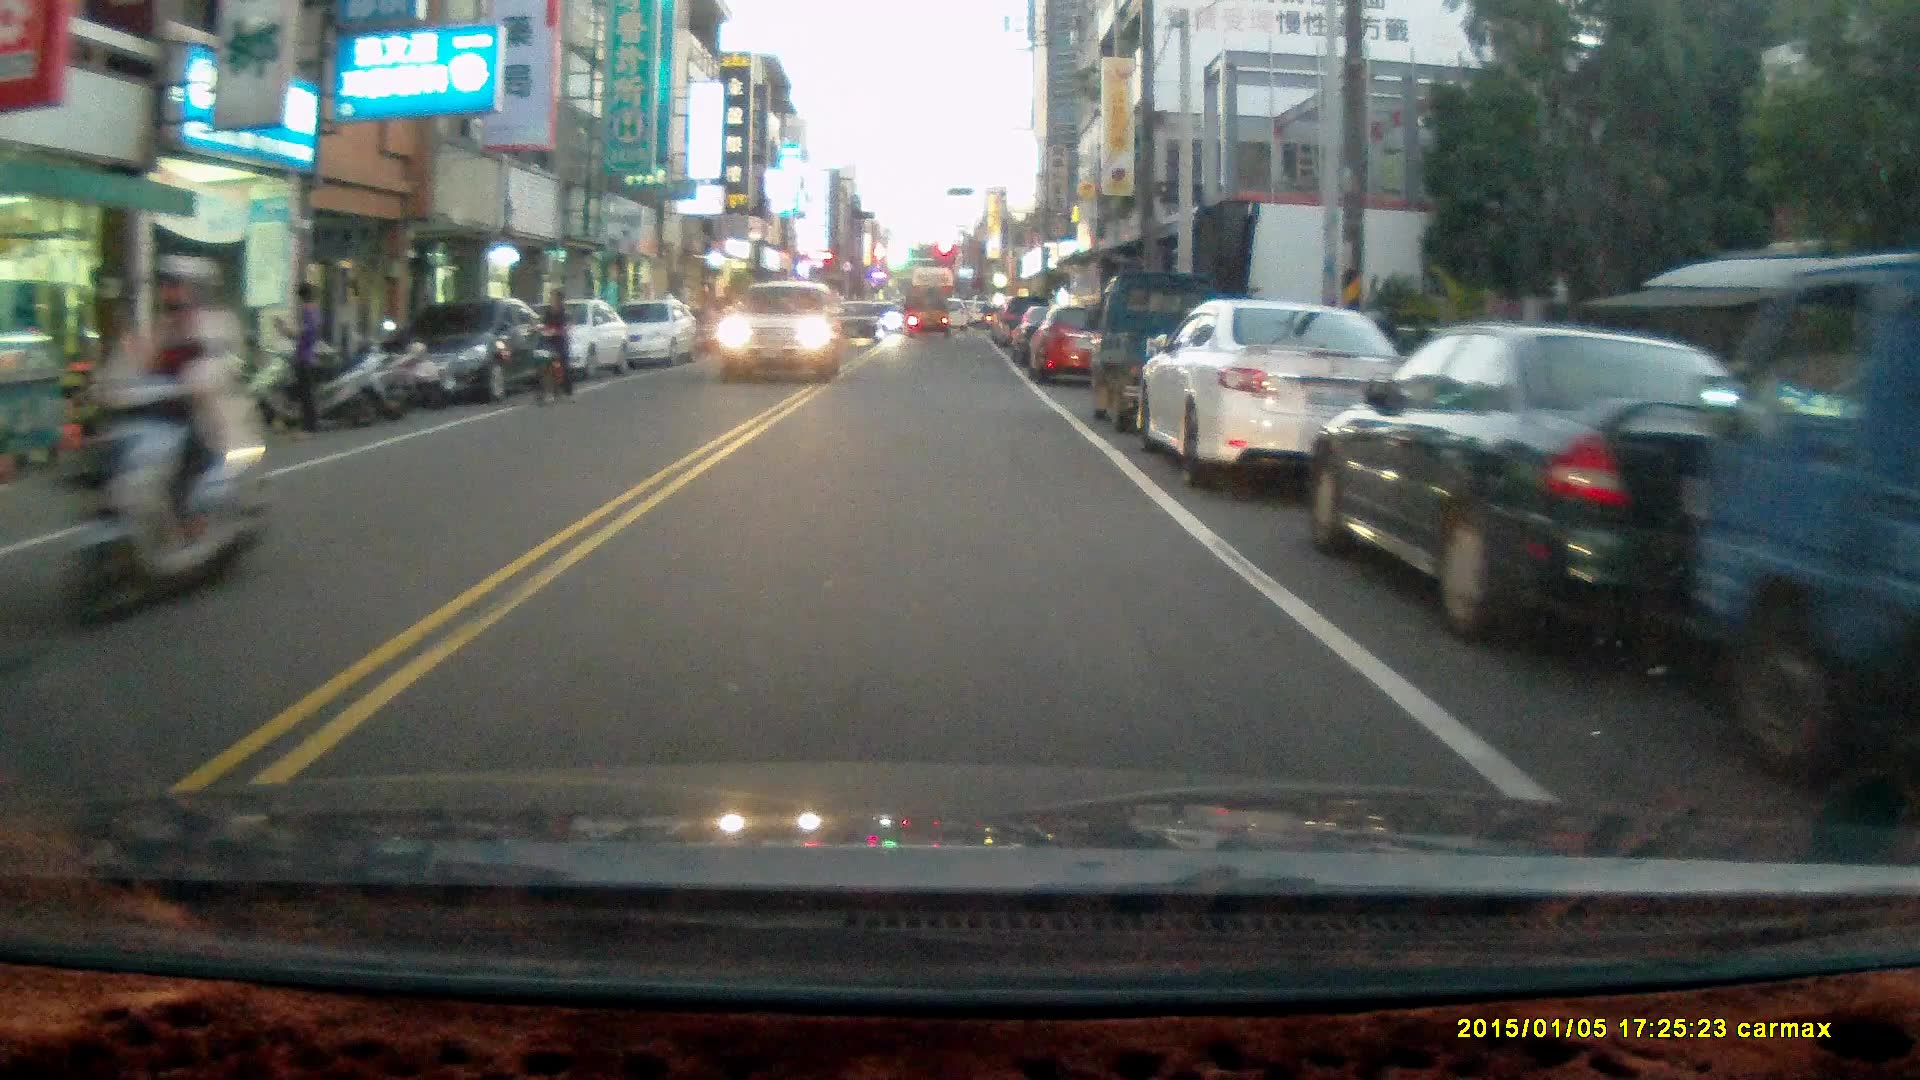pedestrian: (274, 275, 321, 440)
rider: (53, 251, 269, 635), (527, 287, 573, 405)
vehicle: (1302, 320, 1809, 649), (1686, 244, 1920, 806), (1133, 295, 1424, 487), (1090, 263, 1263, 441), (387, 292, 553, 401), (718, 279, 845, 378), (491, 300, 636, 387), (1026, 305, 1130, 385), (599, 297, 700, 365), (828, 297, 890, 349), (901, 283, 953, 339)
